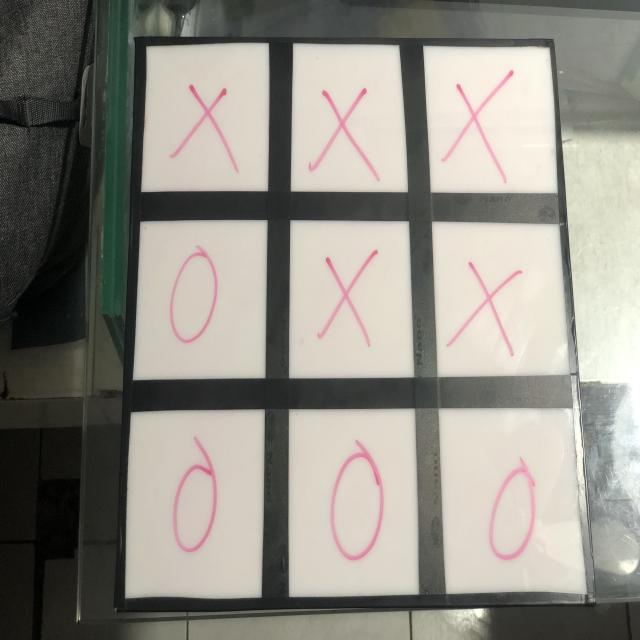o: (324, 447, 388, 569), (484, 460, 546, 564), (167, 455, 228, 557), (163, 240, 221, 345)
table: (100, 25, 598, 611)
x: (440, 66, 519, 178), (446, 251, 523, 355), (310, 84, 386, 184), (317, 243, 380, 356), (172, 79, 242, 174)
